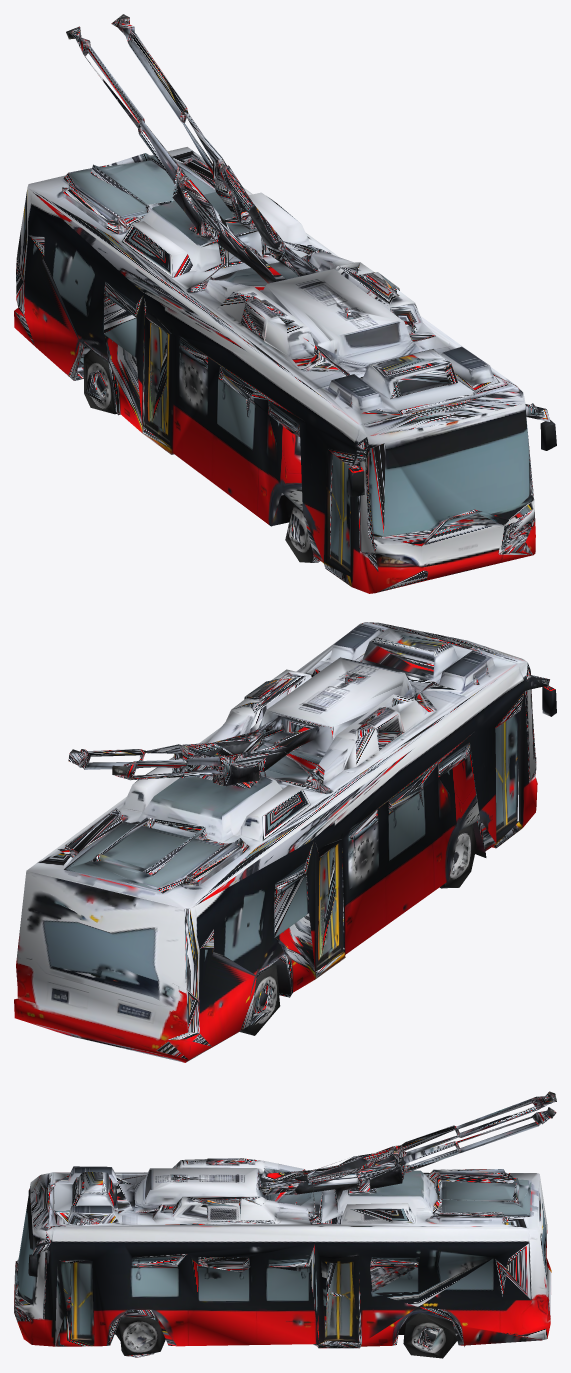
The model's file is teleopBus.glb.
The picture shows the model from 3 angles, top to bottom: view 1: azimuth 30°, elevation 25°; view 2: azimuth 150°, elevation 25°; view 3: azimuth 270°, elevation 25°; orthographic projection. The views are drawn at different scales.
Visible parts, largest first — view 1: bus; view 2: bus; view 3: bus.
Part boxes in pixels (<box>): bus: <box>14,14,556,593</box>; bus: <box>14,622,556,1062</box>; bus: <box>14,1091,556,1358</box>.
Size of the model in its own units: 3.82 by 5.64 by 11.97.
1 material, 1 textured.
